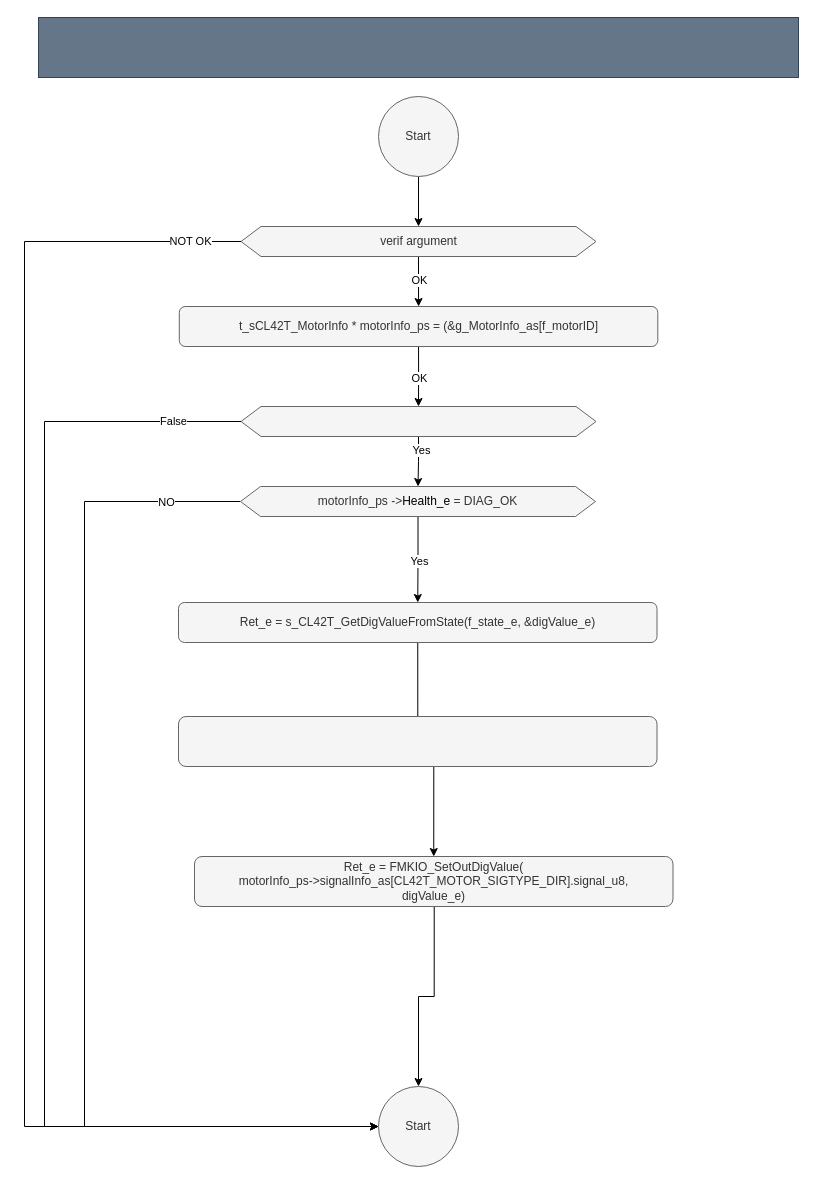
Image size: 816x1184. Some labels were removed from this diagram. The box of each missing label's shape, as (x1, y1, x2, y2) in pixels:
CL42T_SetSpeedSignal(t_eCL42T_MotorId f_motorID_e, t_uint32 f_speed_32 );: (38, 16, 798, 78)
motorInfo_ps ->isConfigured_b == True ??: (240, 406, 596, 436)
motorInfo_ps->SignalIngo_as[CL42T_MOTOR_SIGTYPE_P].value_u32 = digValue_e: (178, 716, 657, 766)
